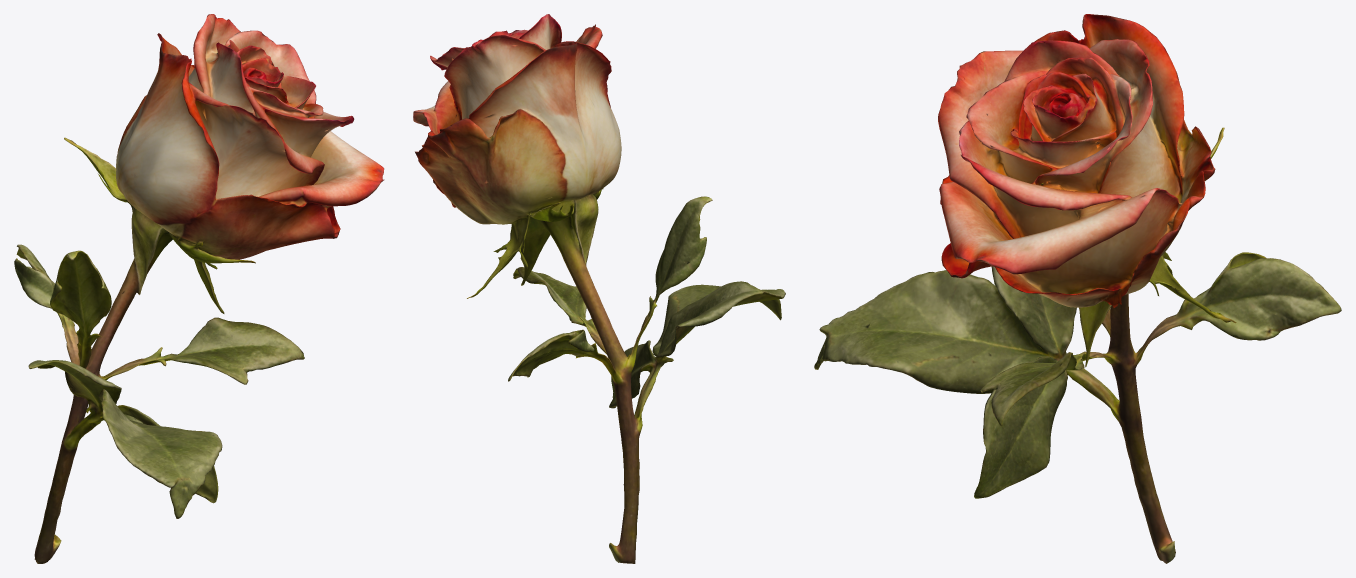
The model's file is rose.glb.
3 renders of one model, left to right at view 1: azimuth 30°, elevation 25°; view 2: azimuth 150°, elevation 25°; view 3: azimuth 270°, elevation 25°, orthographic. The views are drawn at different scales.
Visible parts, largest first — view 1: 691ba998-9a26-4499-85eb-68f718a749f9; view 2: 691ba998-9a26-4499-85eb-68f718a749f9; view 3: 691ba998-9a26-4499-85eb-68f718a749f9.
Boxes of the visible parts, left/top/right/bottom form: 691ba998-9a26-4499-85eb-68f718a749f9: left=14, top=14, right=384, bottom=563; 691ba998-9a26-4499-85eb-68f718a749f9: left=413, top=14, right=785, bottom=563; 691ba998-9a26-4499-85eb-68f718a749f9: left=814, top=14, right=1341, bottom=563.
Bounding box in the file's own units: 0.8179 × 1.17 × 0.9221.
1 material, 1 textured.
